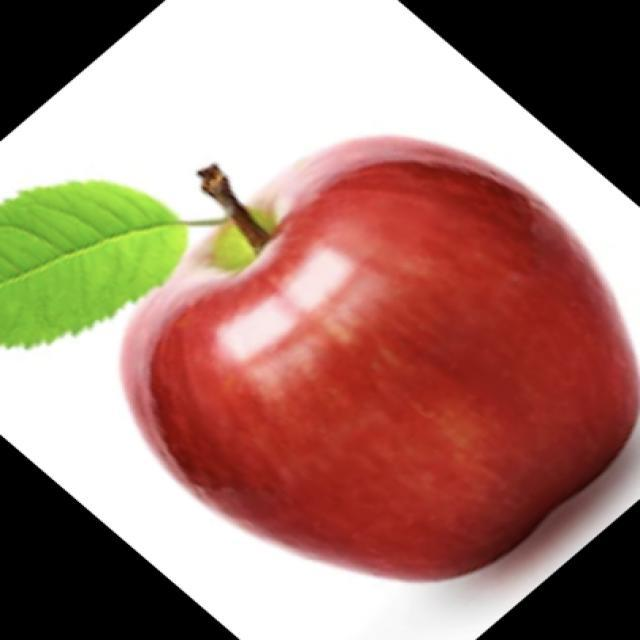Fresh Apple: (120, 132, 640, 585)
